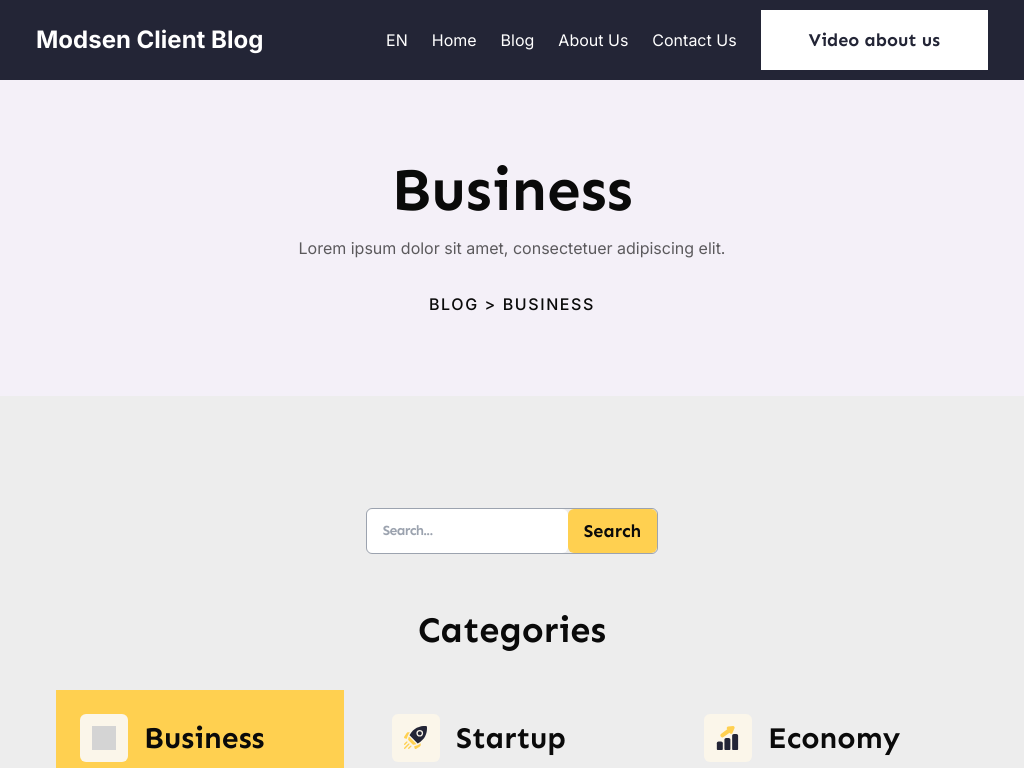
Test: certain category page › should display dropdown , written text is exist in vocab
This screenshot has width=1024, height=768.
Type "li" into the field with placeholder "Search...". click: {"x": 468, "y": 531}
box: [367,509,568,553]
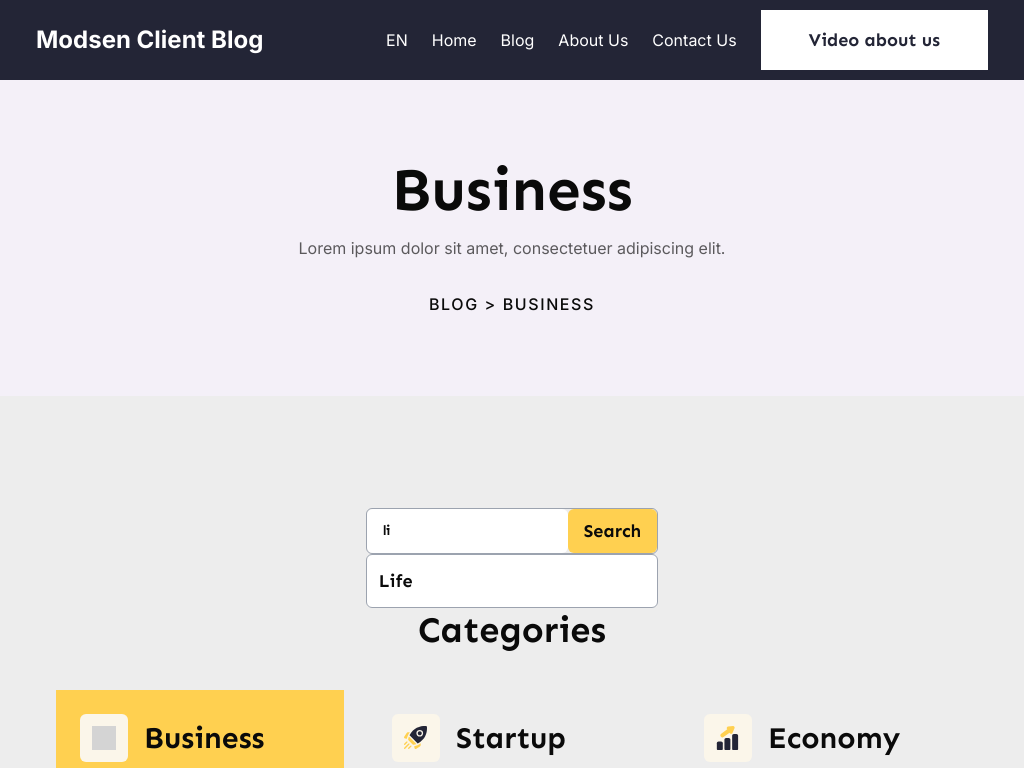
Expected: the list with test id "hint" is shown, [366,554,659,608]
